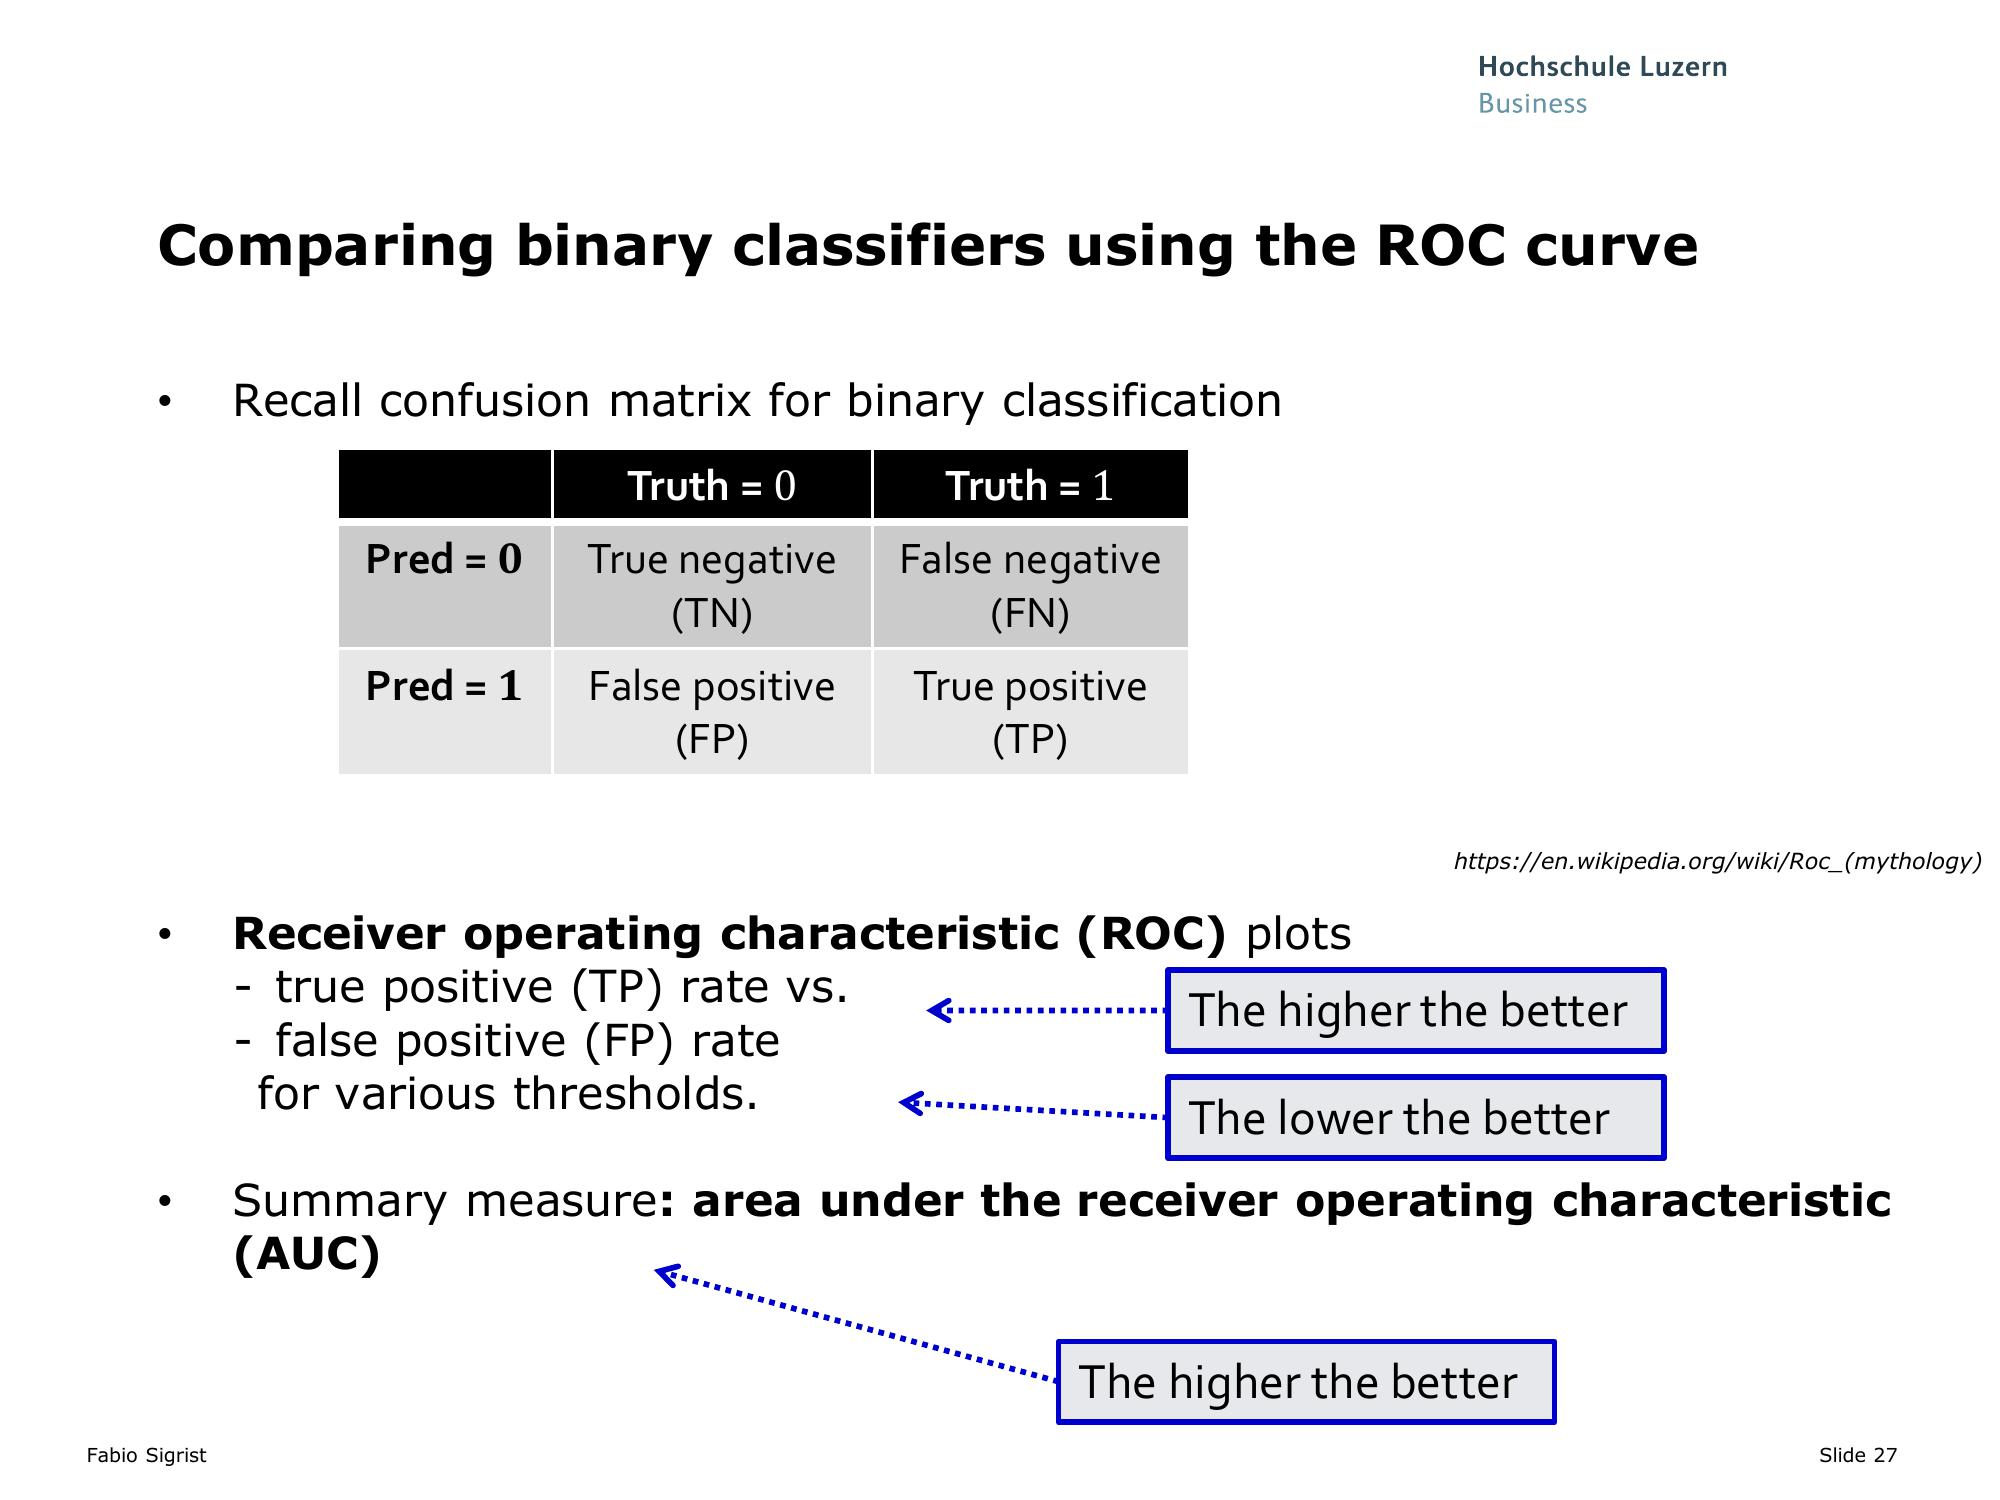Title: (146, 203, 1723, 287)
